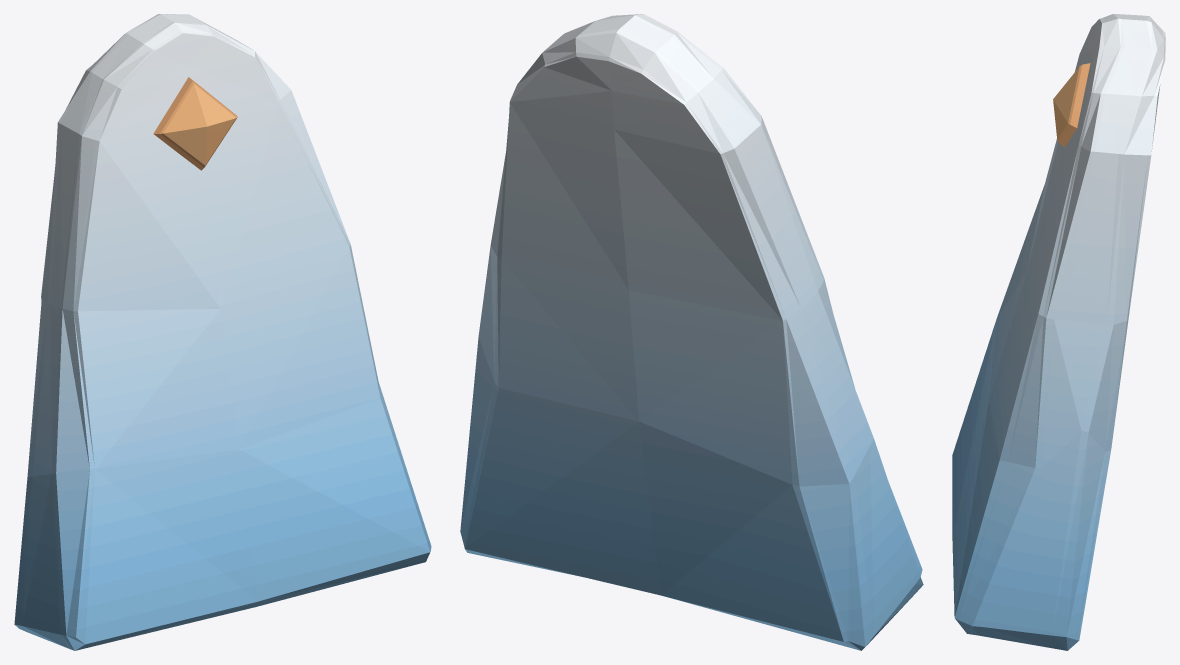
Rendered from CharSkyKid_Prop_Seesaw.glb.
3 renders of one model, left to right at view 1: azimuth 30°, elevation 25°; view 2: azimuth 150°, elevation 25°; view 3: azimuth 270°, elevation 25°, orthographic. The views are drawn at different scales.
Parts seen in each view (by area): view 1: CharSkyKid_Prop_Seesaw; view 2: CharSkyKid_Prop_Seesaw; view 3: CharSkyKid_Prop_Seesaw.
Part boxes in pixels (x1,y1,x2,y2): CharSkyKid_Prop_Seesaw: (14, 14, 431, 650); CharSkyKid_Prop_Seesaw: (460, 14, 923, 650); CharSkyKid_Prop_Seesaw: (952, 14, 1165, 650).
Size of the model in its own units: 2.56 by 3.62 by 1.28.
1 material, 1 textured.
